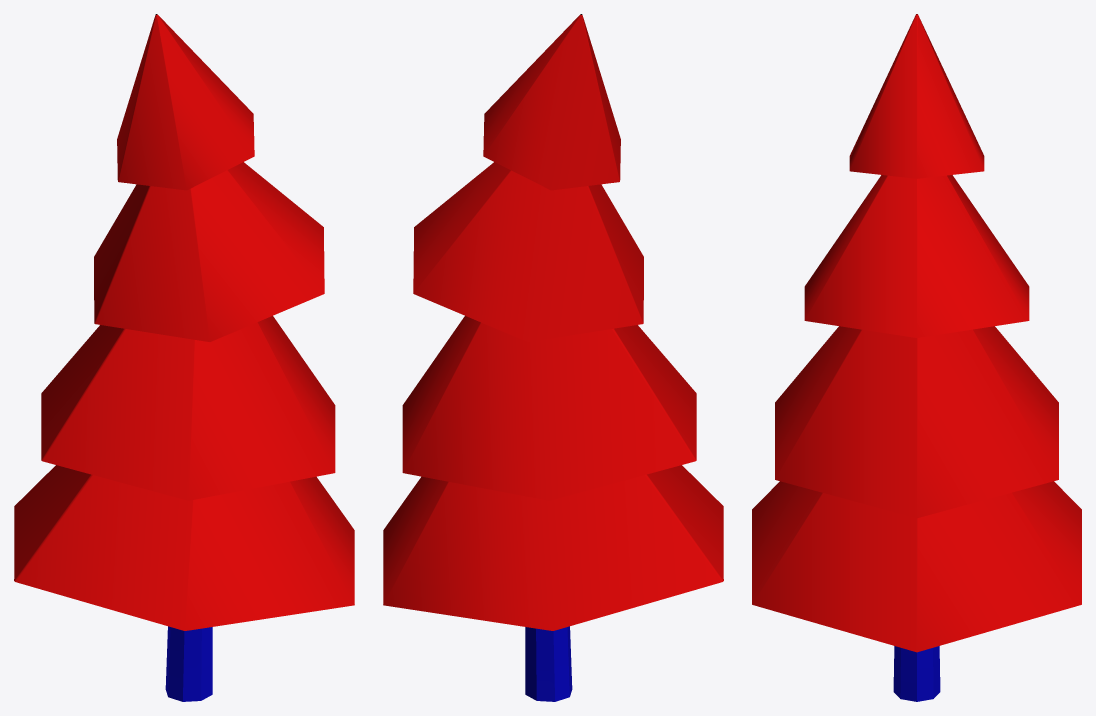
File: SM_Tree_01.fbx
The picture shows the model from 3 angles, left to right: view 1: azimuth 30°, elevation 25°; view 2: azimuth 150°, elevation 25°; view 3: azimuth 270°, elevation 25°; orthographic projection. The views are drawn at different scales.
Parts seen in each view (by area): view 1: tree_01_trunk_geo1; view 2: tree_01_trunk_geo1; view 3: tree_01_trunk_geo1.
Boxes of the visible parts, bbox=[...] form: tree_01_trunk_geo1: bbox=[14, 14, 354, 701]; tree_01_trunk_geo1: bbox=[383, 14, 723, 701]; tree_01_trunk_geo1: bbox=[752, 14, 1081, 701].
Bounding box in the file's own units: 607 × 1170 × 528.
